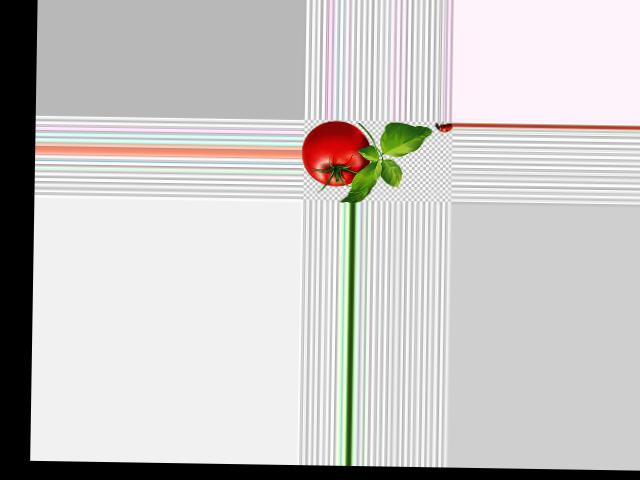tomato: (301, 120, 370, 186)
